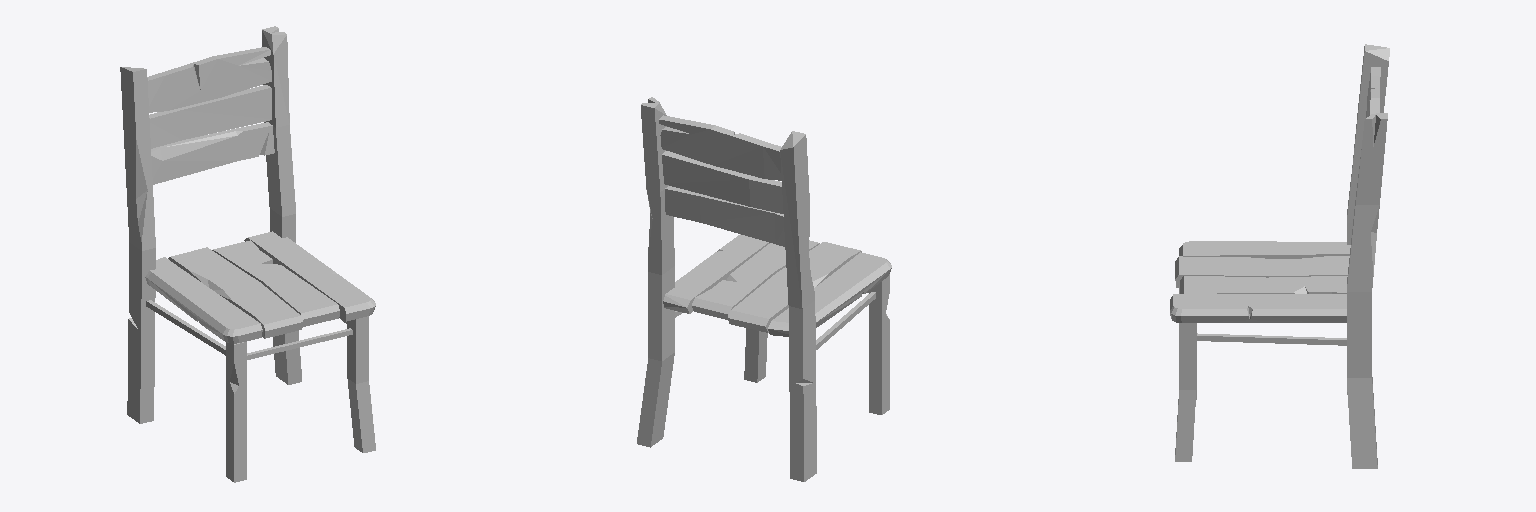
The model's file is wooden chair.obj.
3 renders of one model, left to right at view 1: azimuth 30°, elevation 25°; view 2: azimuth 150°, elevation 25°; view 3: azimuth 270°, elevation 25°, orthographic.
Visible parts, largest first — view 1: Cube.005; view 2: Cube.005; view 3: Cube.005.
Part boxes in pixels (bbox=[...]): Cube.005: bbox=[120, 26, 375, 482]; Cube.005: bbox=[637, 97, 891, 481]; Cube.005: bbox=[1170, 44, 1389, 468].
Bounding box in the file's own units: 1.79 × 3.57 × 2.07.